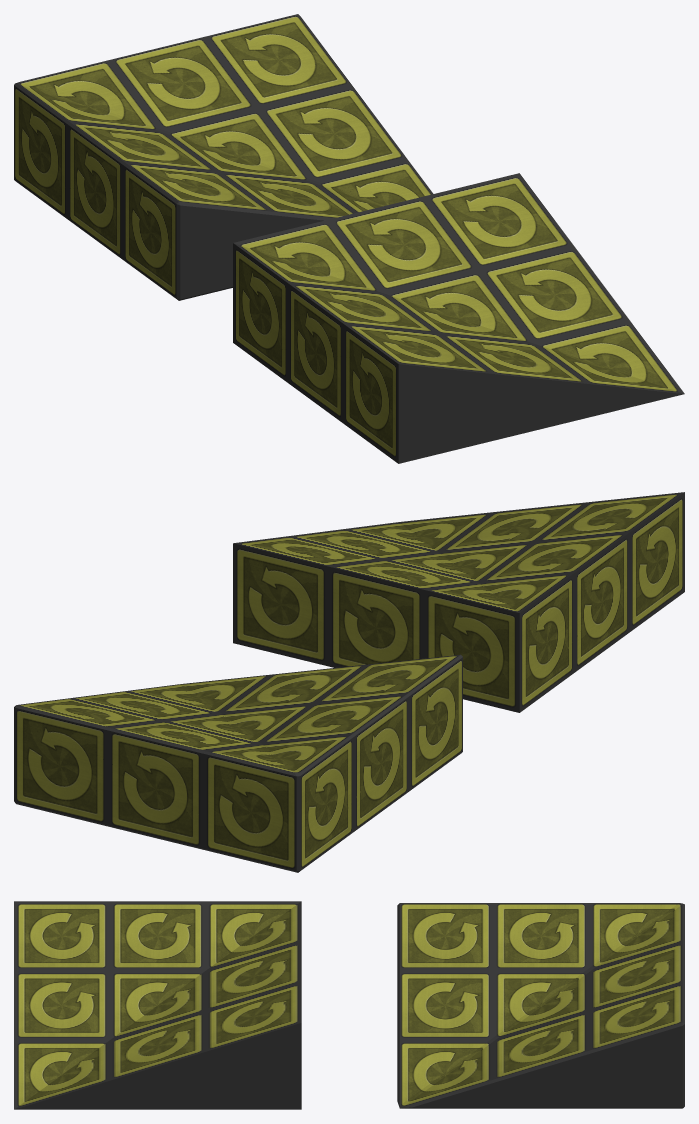
The model's file is slope.insideCorner.3x3.fbx.
3 views of the same model, one above another, from view 1: azimuth 30°, elevation 25°; view 2: azimuth 150°, elevation 25°; view 3: azimuth 270°, elevation 25° (orthographic). The views are drawn at different scales.
Parts seen in each view (by area): view 1: MESH slope.insideCorner.3x3, MESH slope.insideCorner.3x3.c; view 2: MESH slope.insideCorner.3x3.c, MESH slope.insideCorner.3x3; view 3: MESH slope.insideCorner.3x3, MESH slope.insideCorner.3x3.c.
Part boxes in pixels (bbox=[...]): MESH slope.insideCorner.3x3: bbox=[233, 173, 684, 463]; MESH slope.insideCorner.3x3.c: bbox=[14, 14, 433, 300]; MESH slope.insideCorner.3x3.c: bbox=[14, 654, 462, 872]; MESH slope.insideCorner.3x3: bbox=[233, 492, 684, 712]; MESH slope.insideCorner.3x3: bbox=[14, 901, 301, 1109]; MESH slope.insideCorner.3x3.c: bbox=[397, 903, 684, 1108].
Size of what is drawn, in the model's own units: 300 by 100 by 700.
